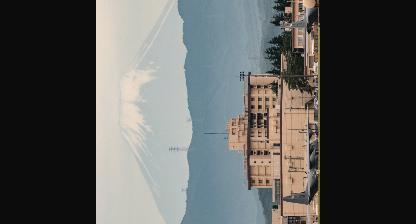Be200: (282, 103, 319, 221), (280, 0, 318, 65)
